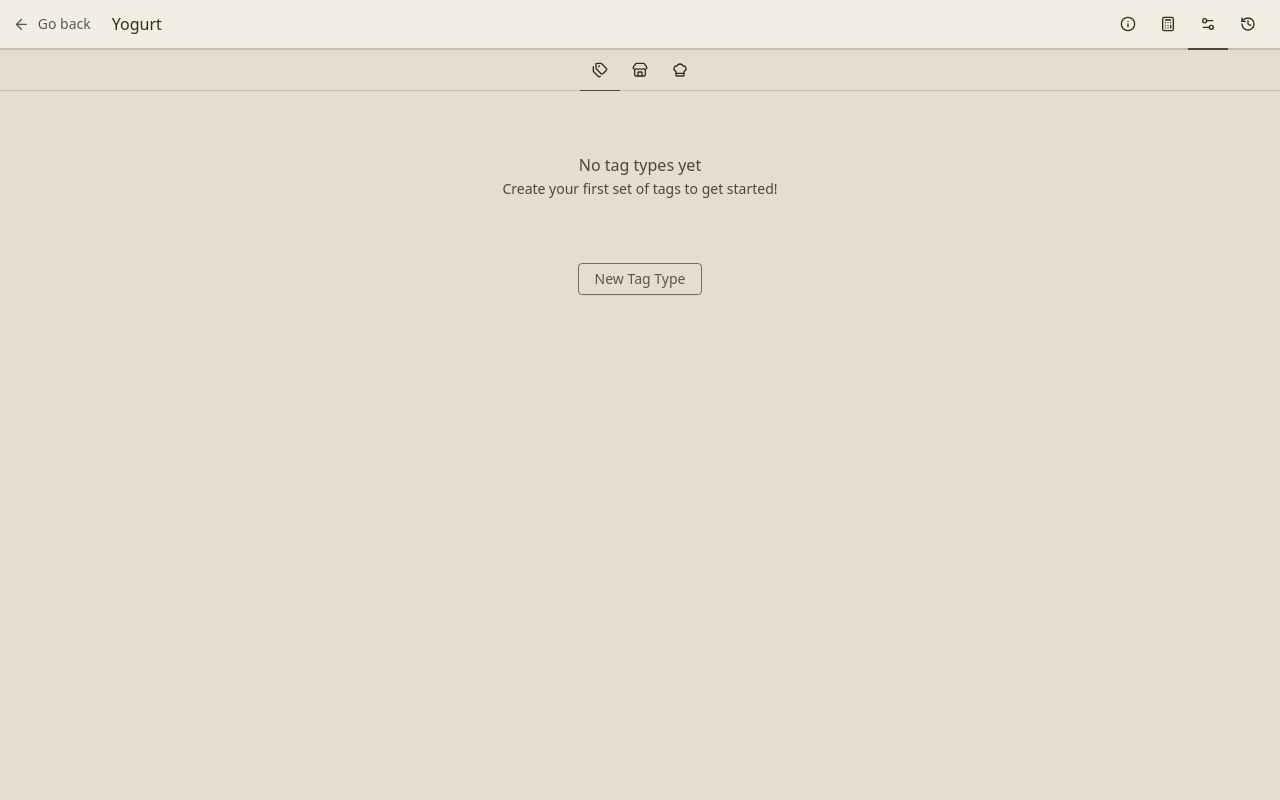
Tags Tab - Add Tag Functionality › user can create a new tag type from the empty tags tab
Click the button "New Tag Type" at (640, 279), box [578,263,702,295]
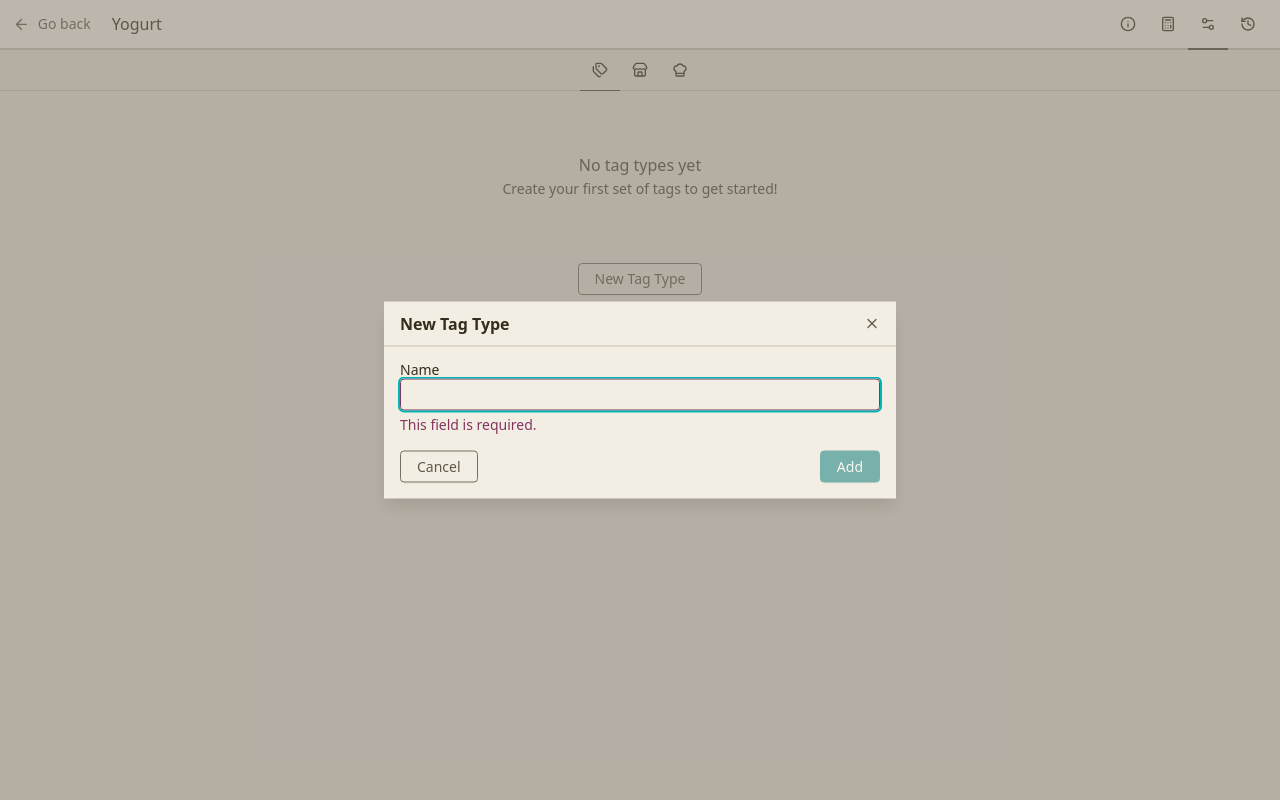
And enters a tag type name in the dialog
Type "Season" into the field labelled "Name" at (640, 394), box [400,378,880,410]
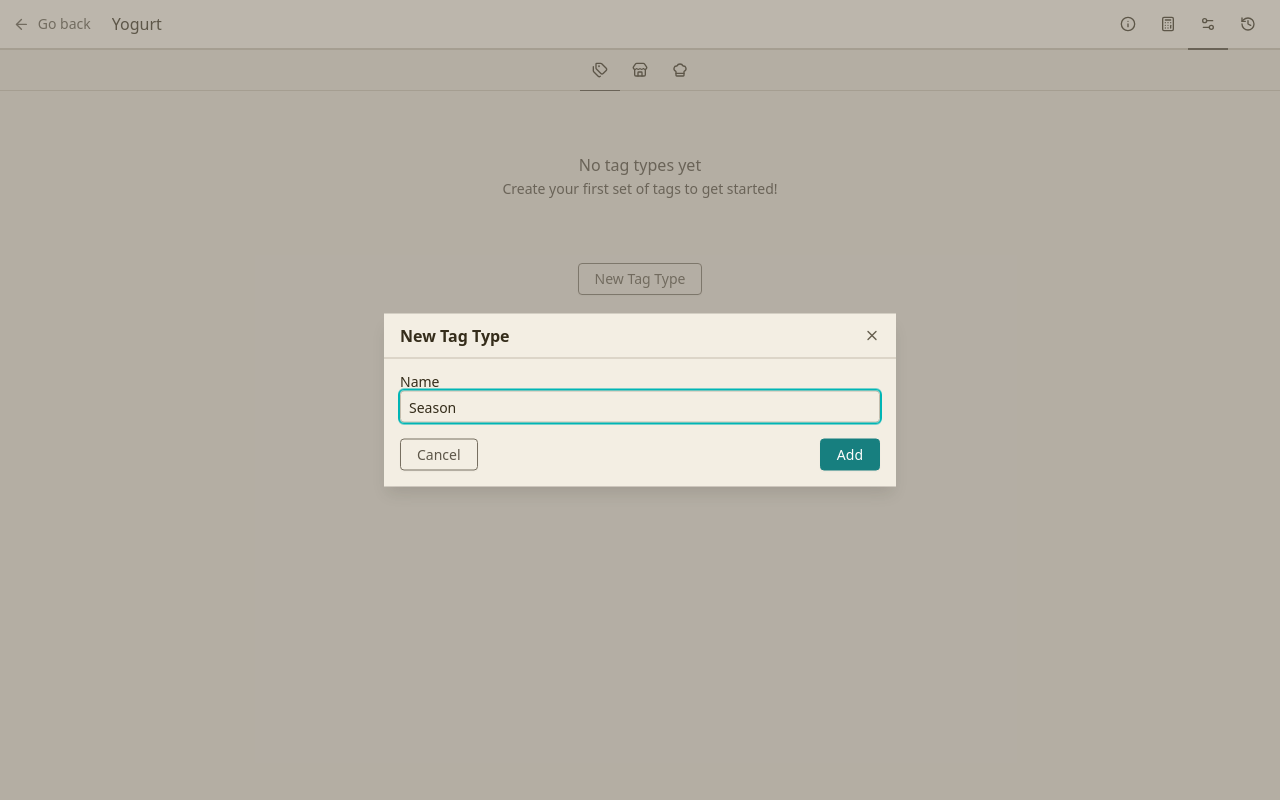
And clicks the Add button
Click the button "Add" at (850, 454), box [820,438,880,470]
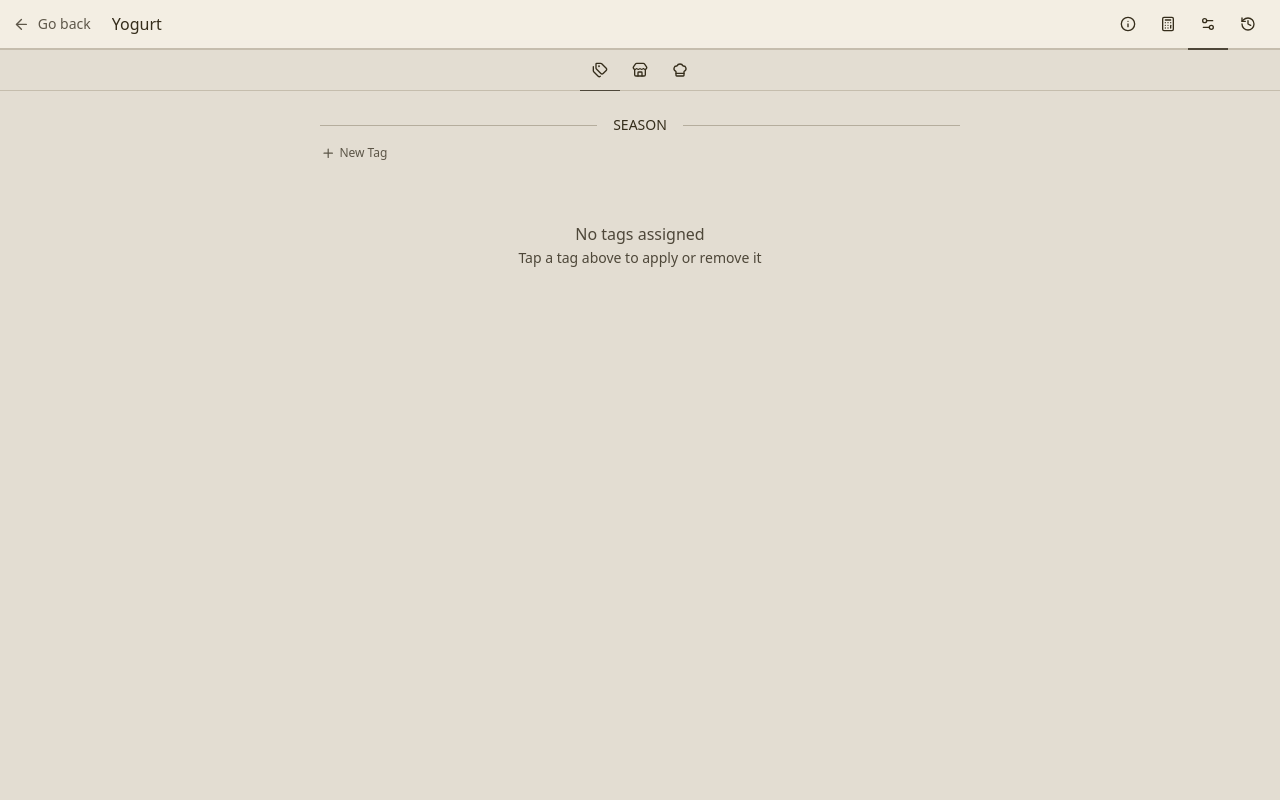
Expected: the heading "Season" is shown, [613,115,667,135]
